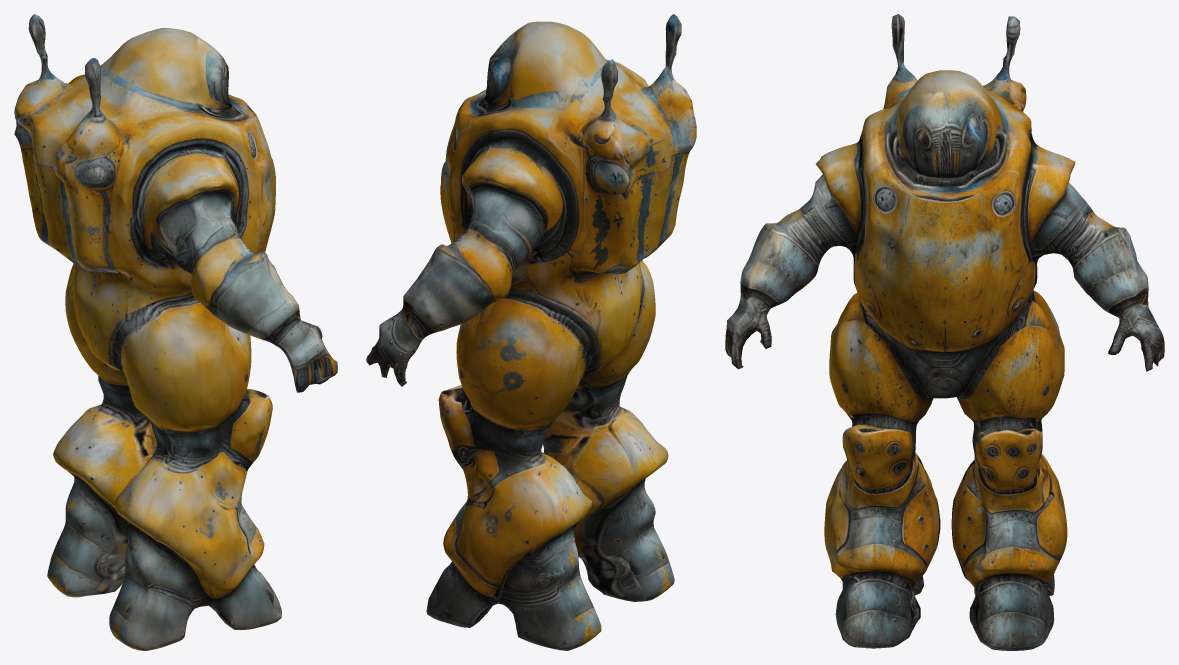
Rendered from alien1.glb.
3 views of the same model, side by side, from view 1: azimuth 30°, elevation 25°; view 2: azimuth 150°, elevation 25°; view 3: azimuth 270°, elevation 25° (orthographic). The views are drawn at different scales.
Size of the model in its own units: 0.4864 by 1.2 by 0.8515.
Materials: 1 (1 with a texture image).
